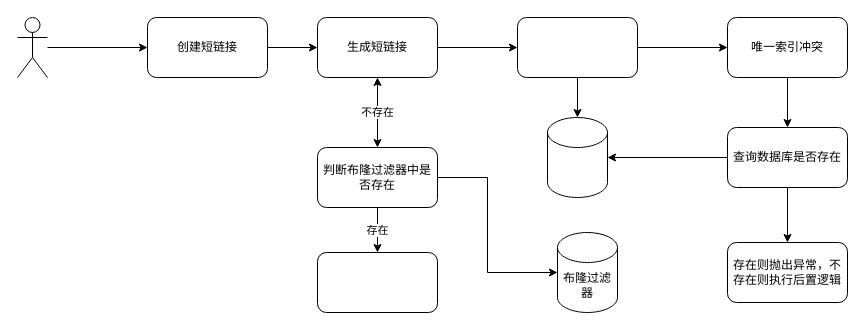
The diagram is 865 pixels wide and 330 high, and some of its shapes have lost their labels. Each missing label, with the box of its shape:
Actor: (16, 16, 48, 78)
mysqldb: (546, 116, 608, 198)
while循环10次，直到不冲突为止，如果超过10次就抛出异常: (316, 252, 438, 312)
保存到数据库: (516, 16, 638, 78)
